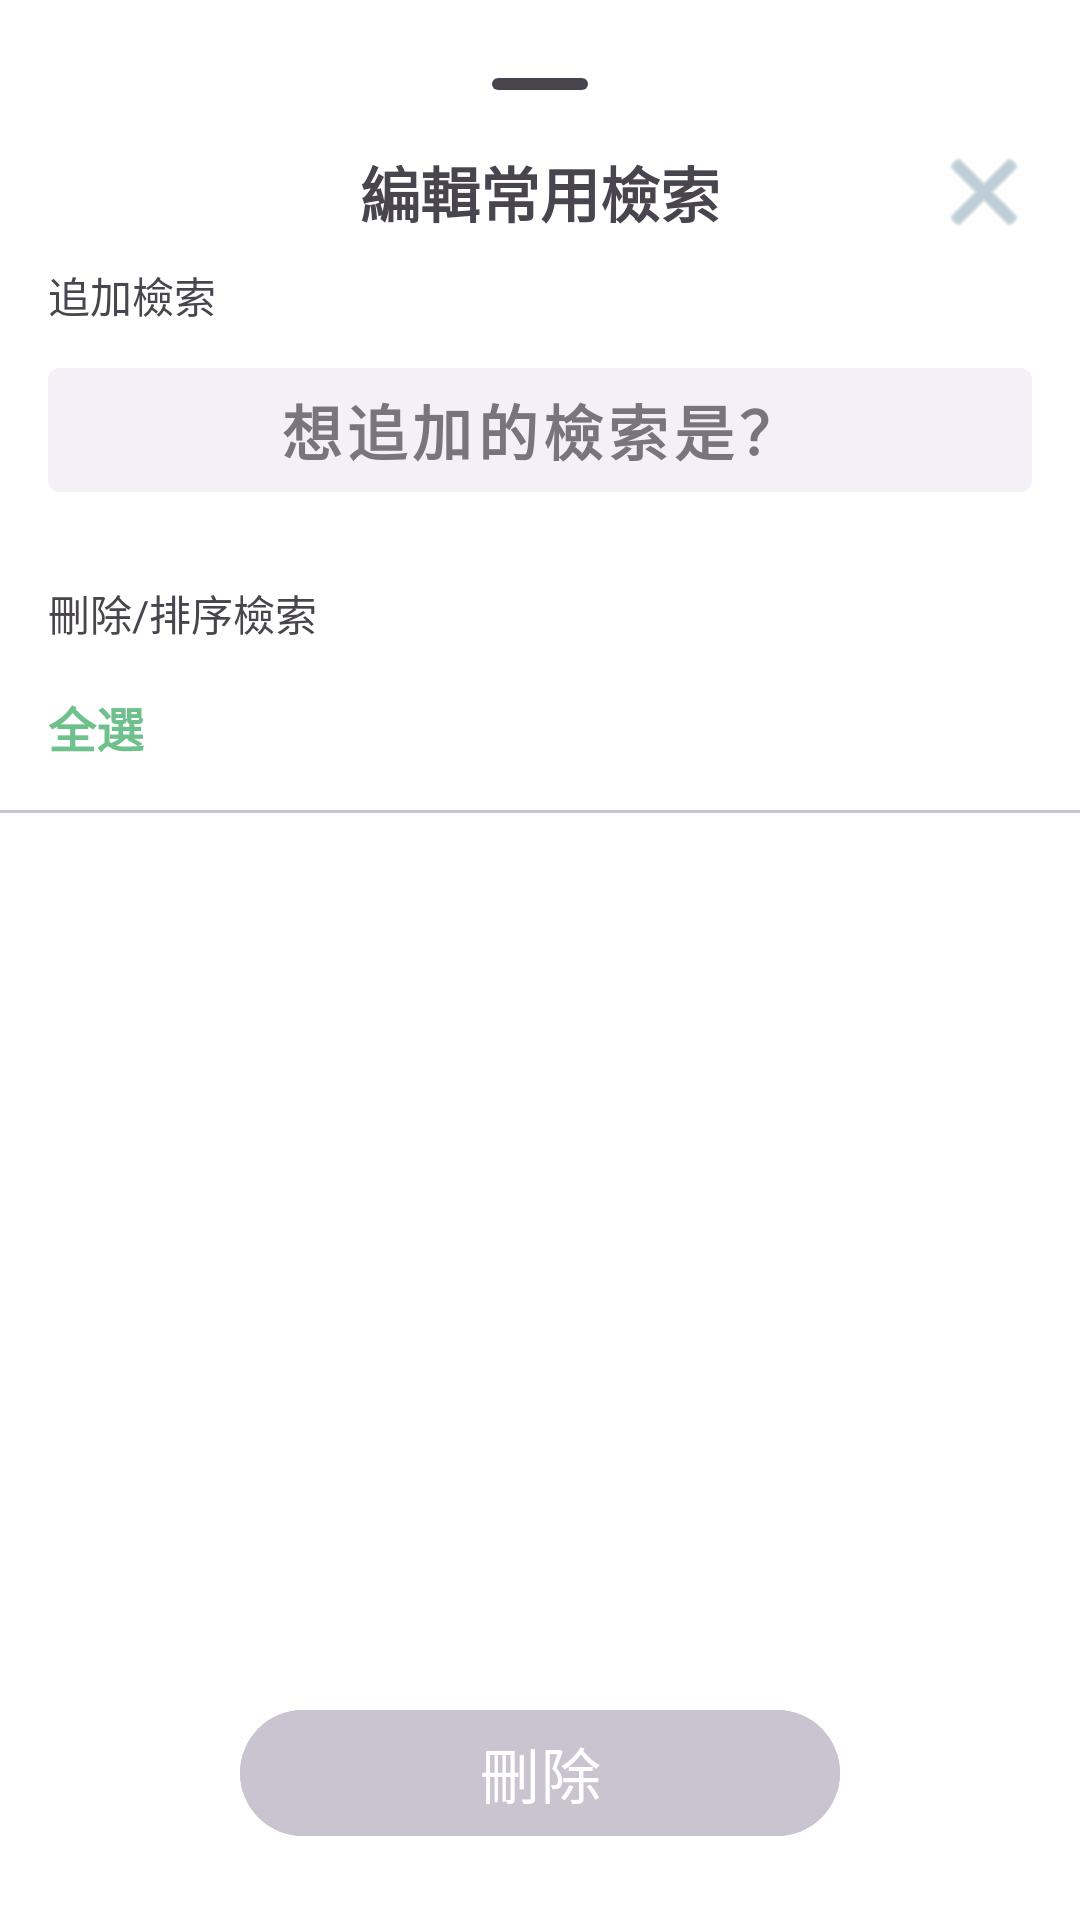

Screen size 1080*1920. Icon name, then its box in pixels as (x1, y1, x2, y2):
close clear cancel: (951, 159, 1017, 225)
